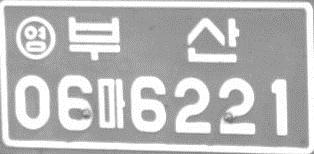0: (13, 74, 50, 130)
1: (260, 76, 295, 136)
2: (216, 77, 257, 136), (172, 76, 212, 135)
6: (129, 74, 168, 133), (56, 73, 95, 131)
마: (97, 77, 127, 130)
부산_D: (66, 14, 241, 63)
영: (14, 14, 56, 60)
